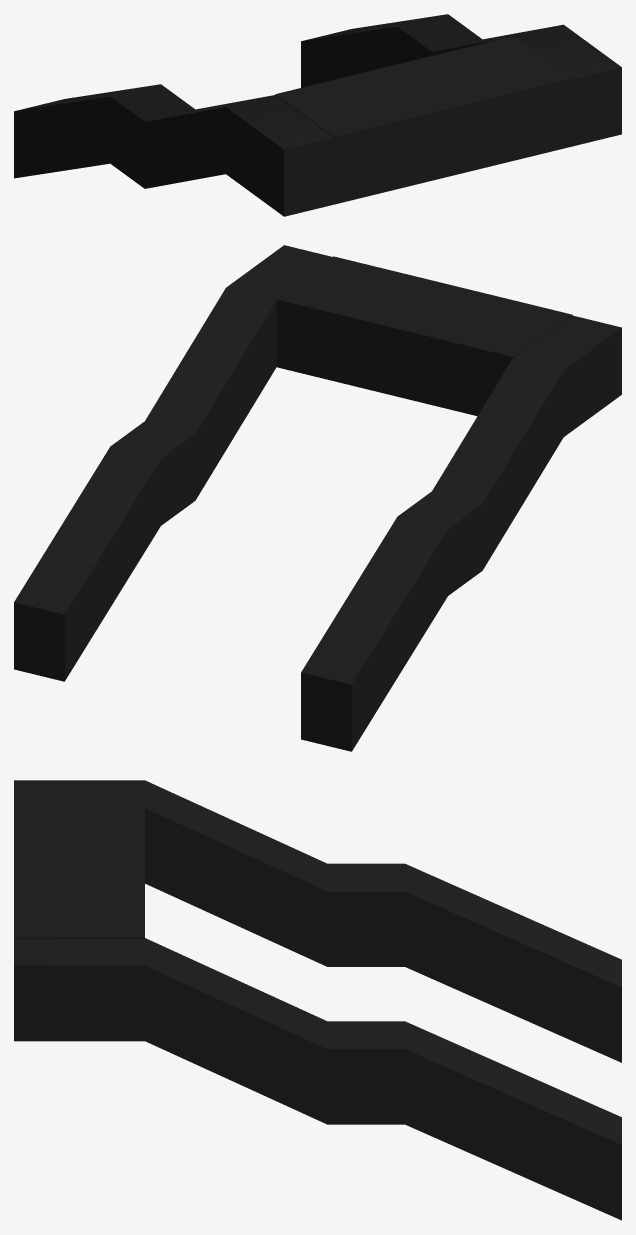
Rendered from AMB_HODOKYO.glb.
3 renders of one model, top to bottom at view 1: azimuth 30°, elevation 25°; view 2: azimuth 150°, elevation 25°; view 3: azimuth 270°, elevation 25°, orthographic. The views are drawn at different scales.
Parts seen in each view (by area): view 1: Mesh3, MUL01, J01; view 2: MUL01, J01, Mesh3; view 3: J01, MUL01, Mesh3.
Part boxes in pixels (left/top/right/bottom): Mesh3: left=275, top=36, right=572, bottom=204; MUL01: left=14, top=84, right=334, bottom=216; J01: left=301, top=14, right=621, bottom=146; MUL01: left=301, top=315, right=621, bottom=751; J01: left=14, top=245, right=331, bottom=681; Mesh3: left=275, top=256, right=572, bottom=416; J01: left=14, top=938, right=621, bottom=1220; MUL01: left=14, top=780, right=621, bottom=1062; Mesh3: left=14, top=806, right=144, bottom=938.
Size of the model in its own units: 56.5 by 36.33 by 78.28.
Materials: 3 (3 with a texture image).
